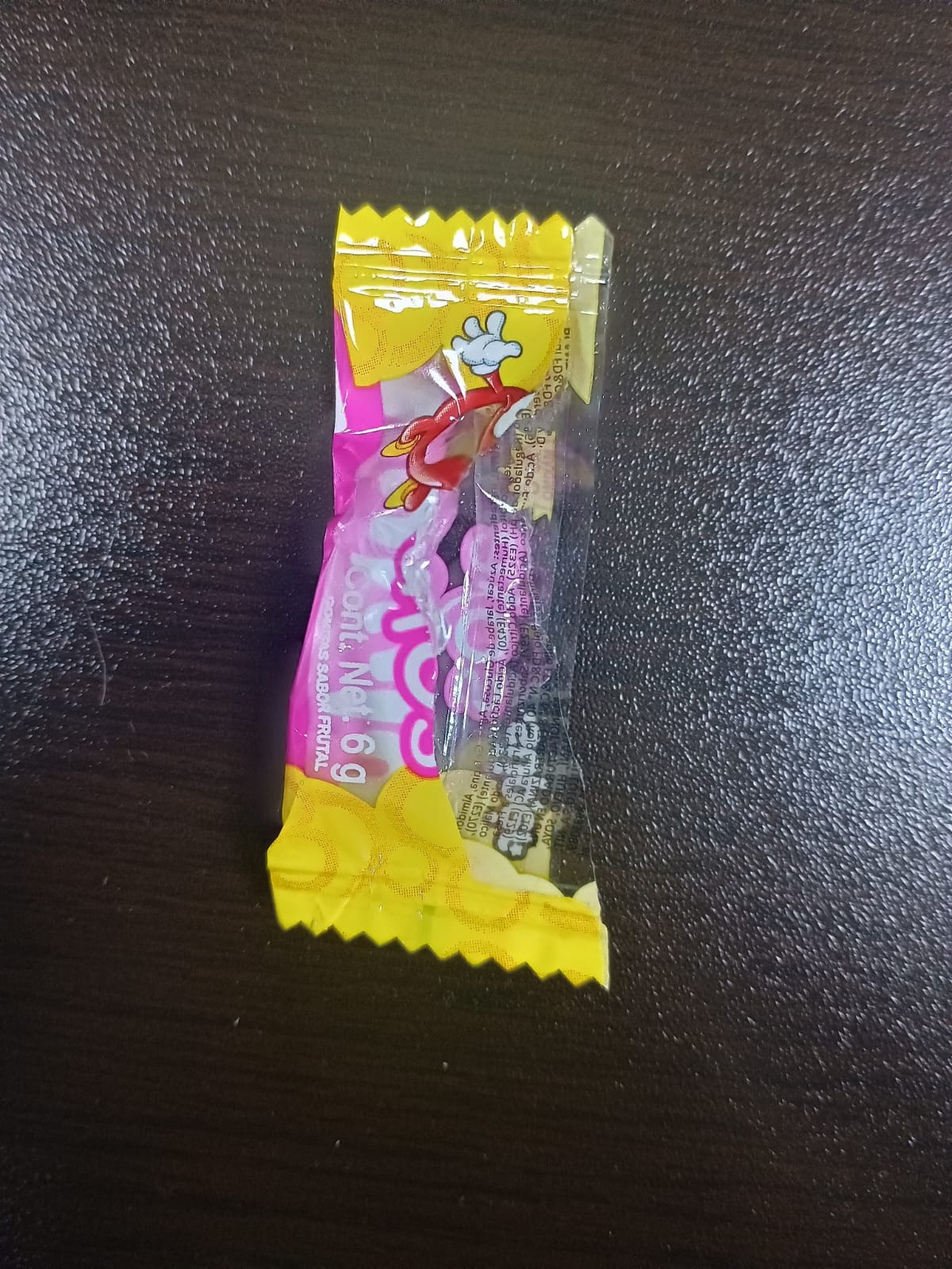Ordinario: (266, 204, 666, 993)
